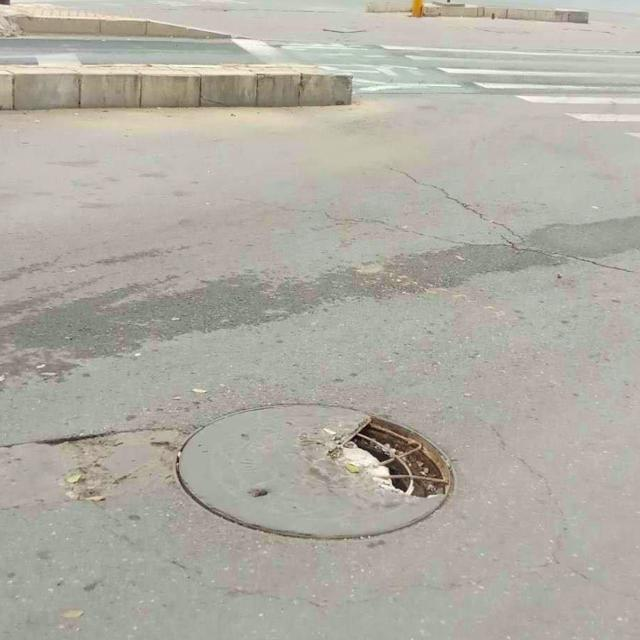broke: (176, 403, 455, 538)
